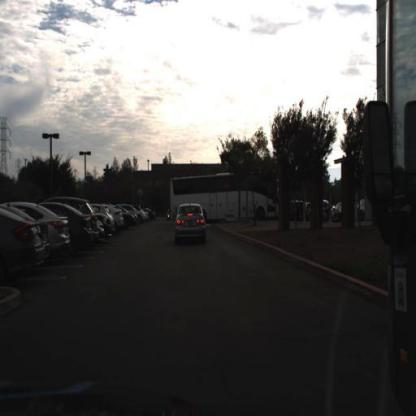car: (1, 210, 48, 275), (19, 204, 73, 255), (50, 201, 100, 247), (41, 207, 72, 261), (175, 201, 209, 248), (69, 206, 95, 250)
truck: (170, 169, 285, 228), (169, 172, 282, 219)
